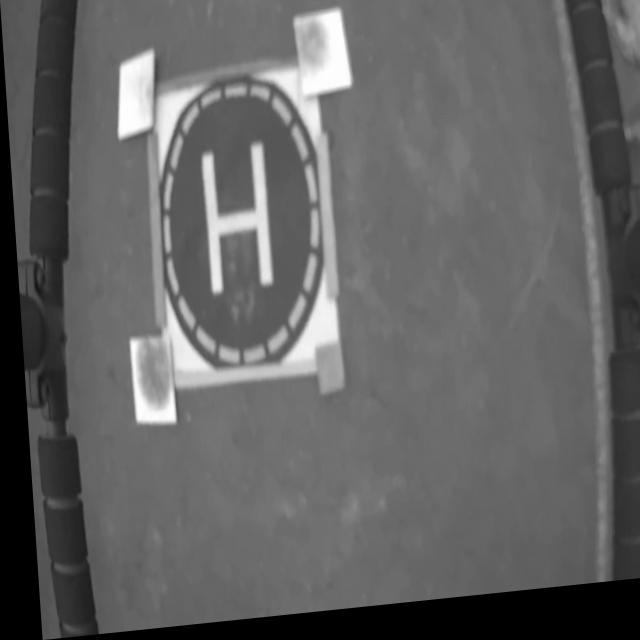Helipad: (198, 146, 268, 299)
